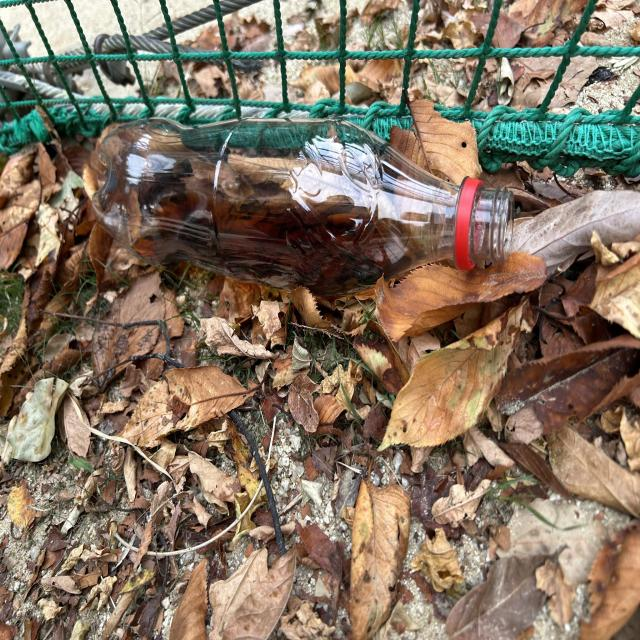low: (92, 118, 513, 297)
